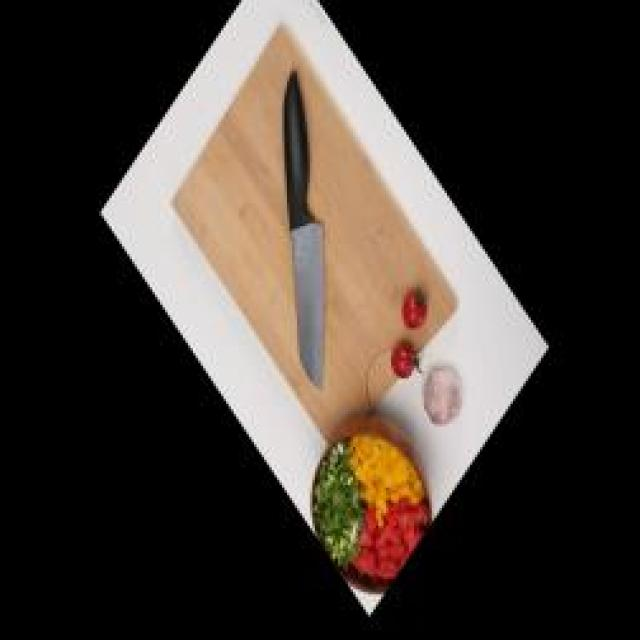knife: (282, 71, 330, 392)
